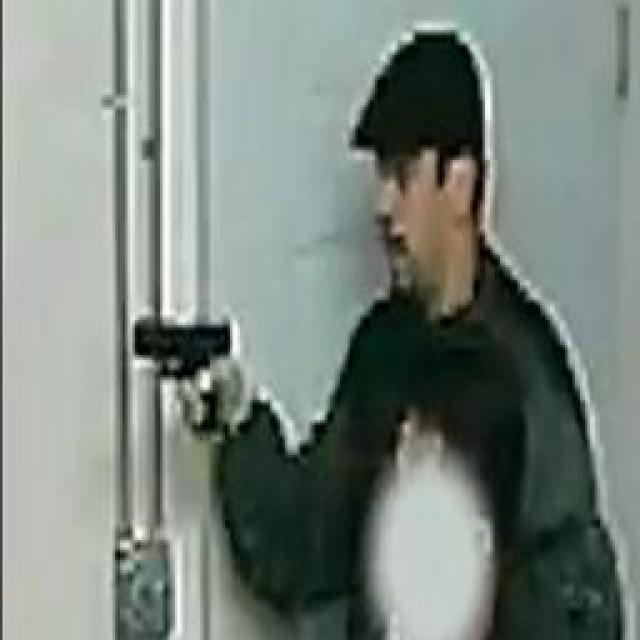Guns: (110, 305, 249, 446)
